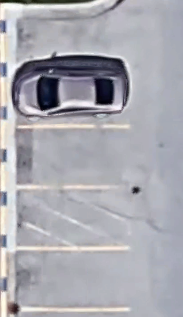Occupied: (13, 67, 128, 128), (13, 187, 128, 248)
Vacant: (12, 127, 129, 188), (14, 248, 129, 310), (14, 12, 127, 68)
